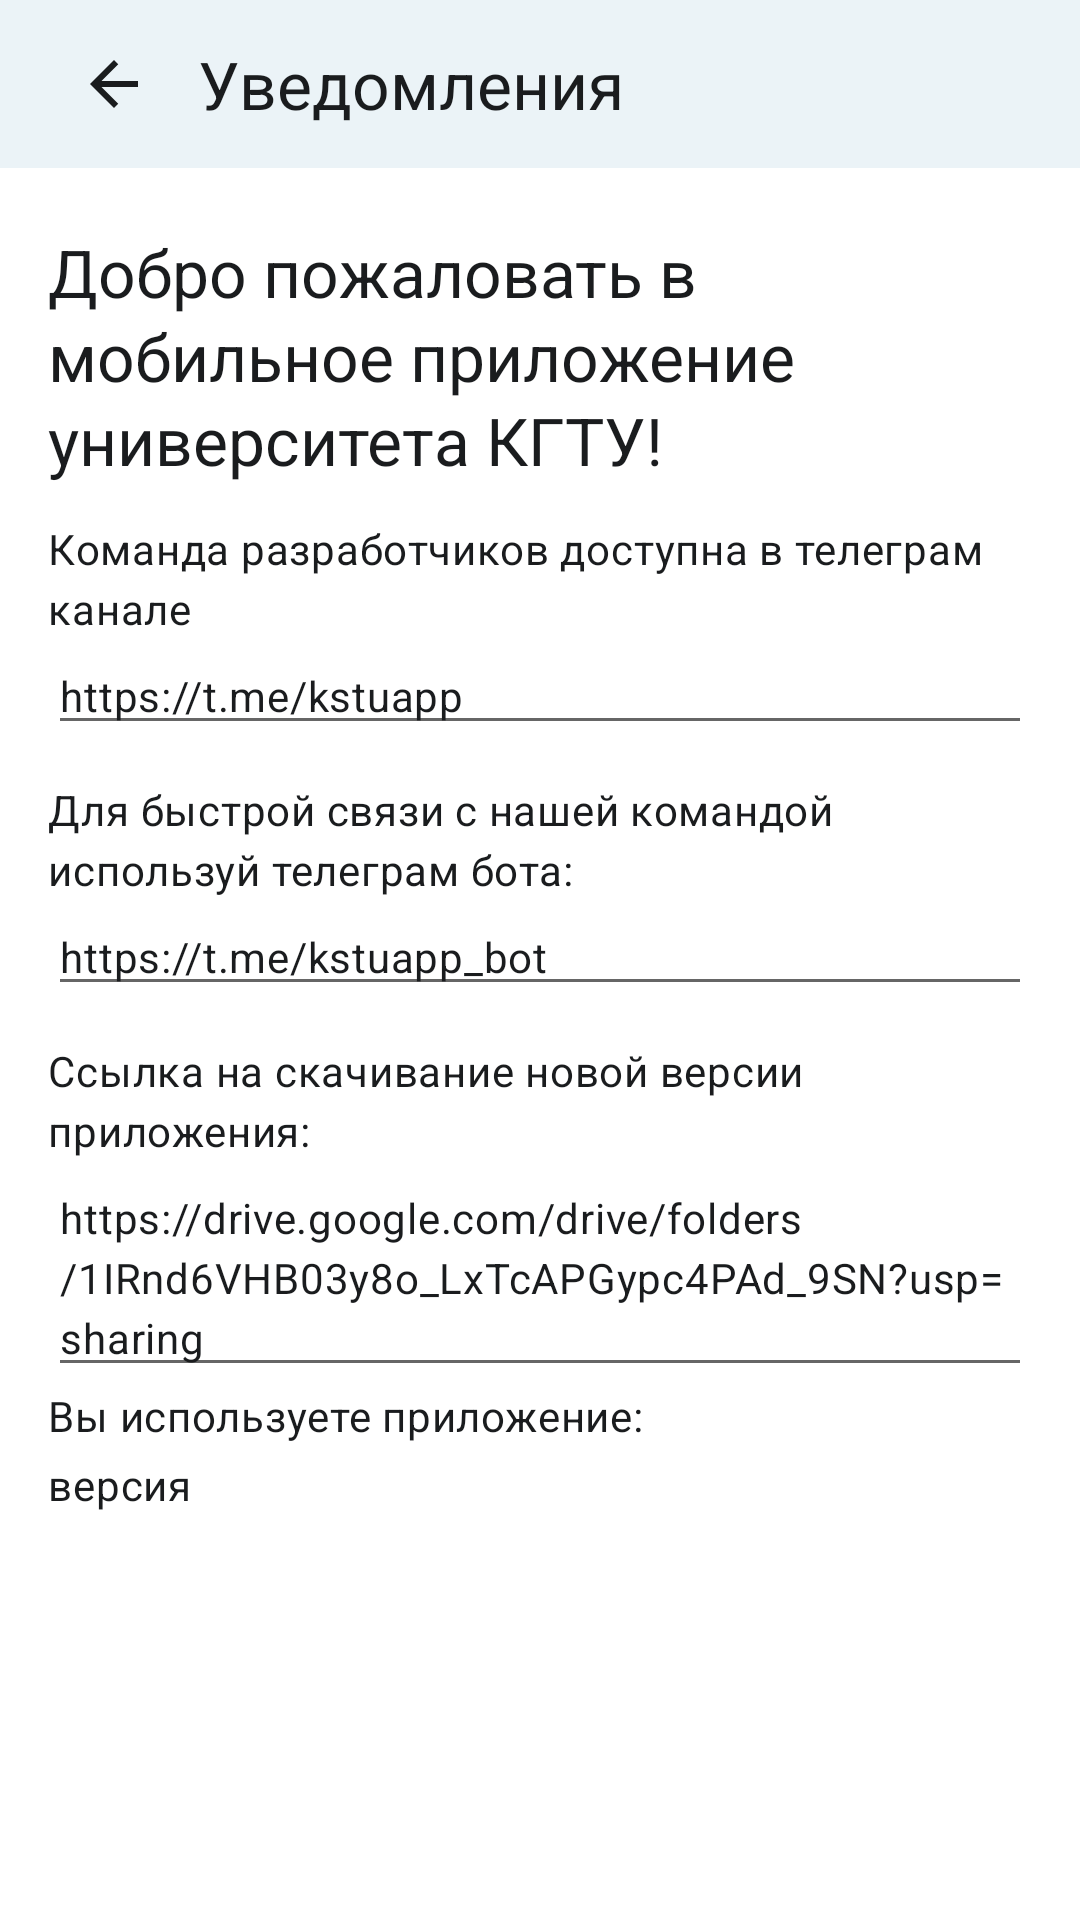

Icon click points for this 1080w x 1920h phone screenshot, format (x=x, y=y):
go back arrow: (x=114, y=84)
